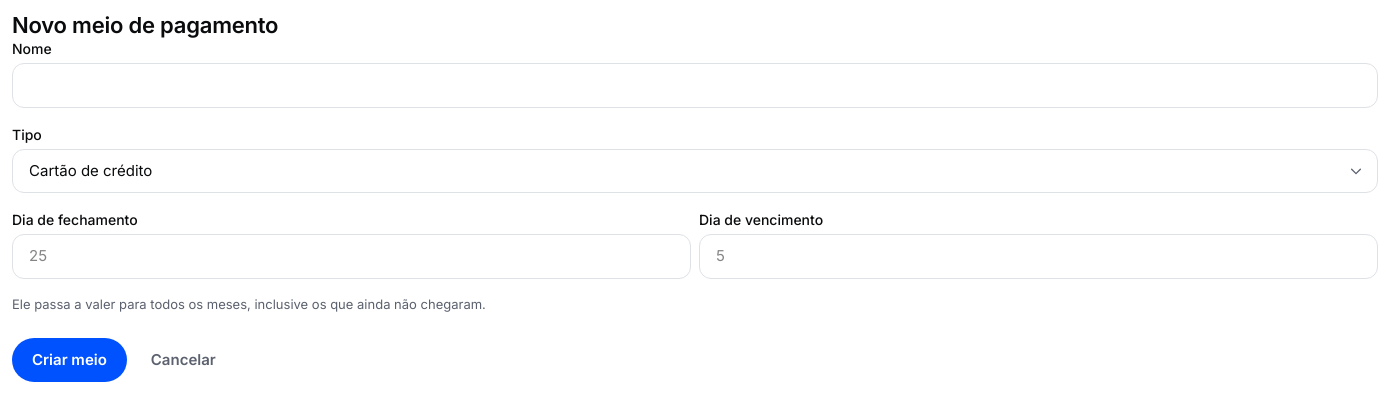
Test: a recusa do servidor (CADCOL-08, AC 5) › o nome de um meio ativo aparece junto do campo, sem abrir nada
The image size is (1390, 399).
Select "Conta corrente" in the dropdown labelled "Tipo": (695, 171) [12,149,1378,193]
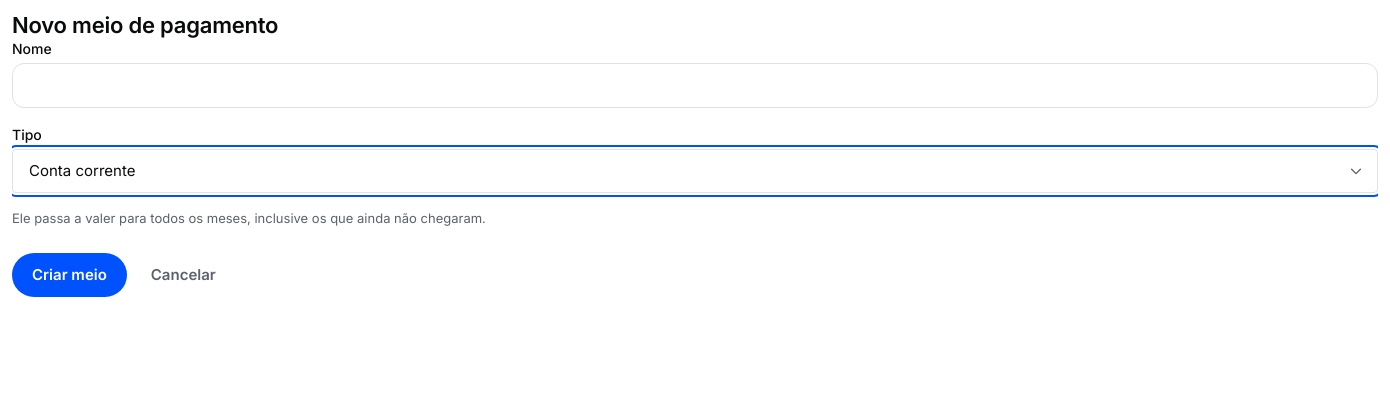
Click the field labelled "Nome": click(695, 86) [12,63,1378,108]
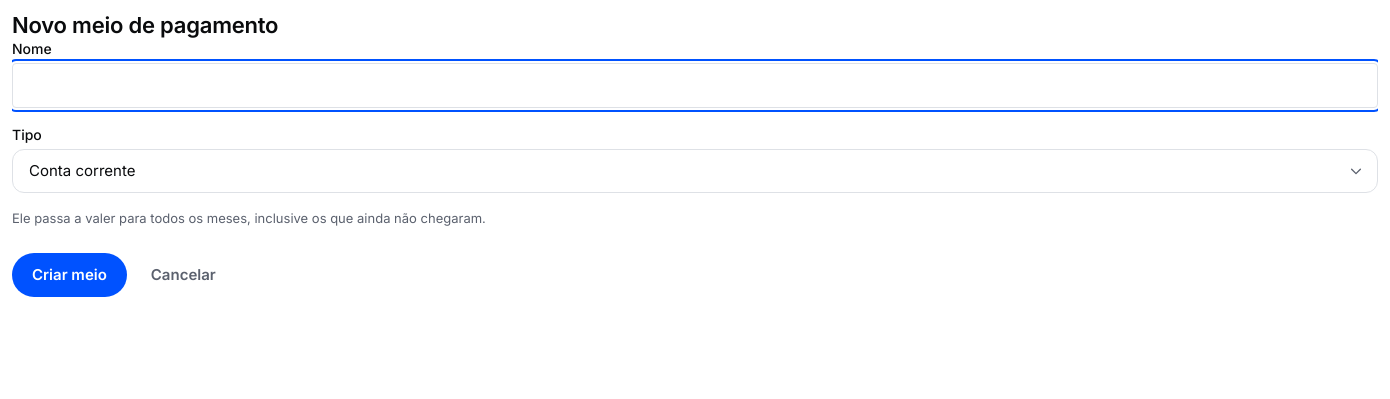
Type keys "conta corrente"
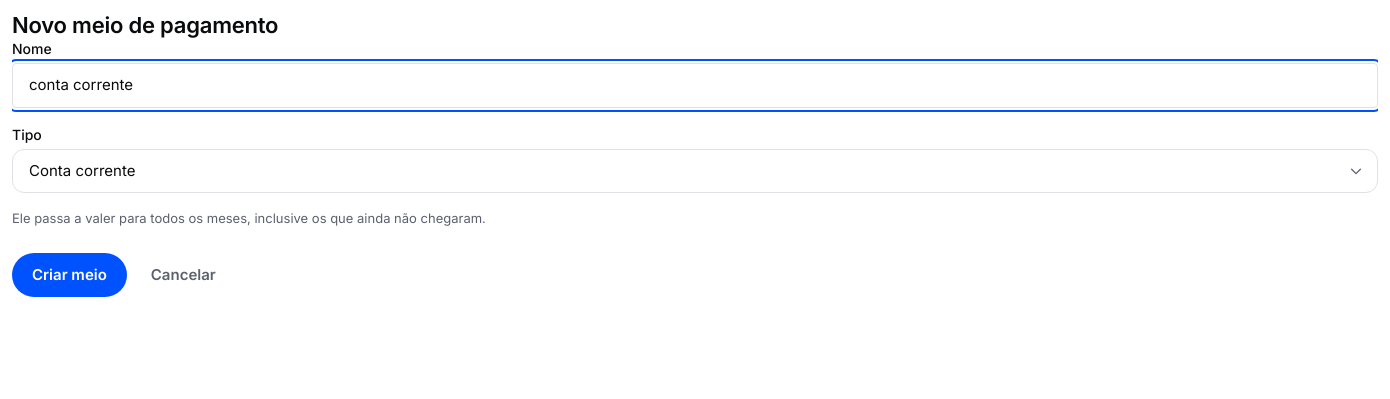
Click the button "Criar meio": click(69, 275) [12,253,127,297]
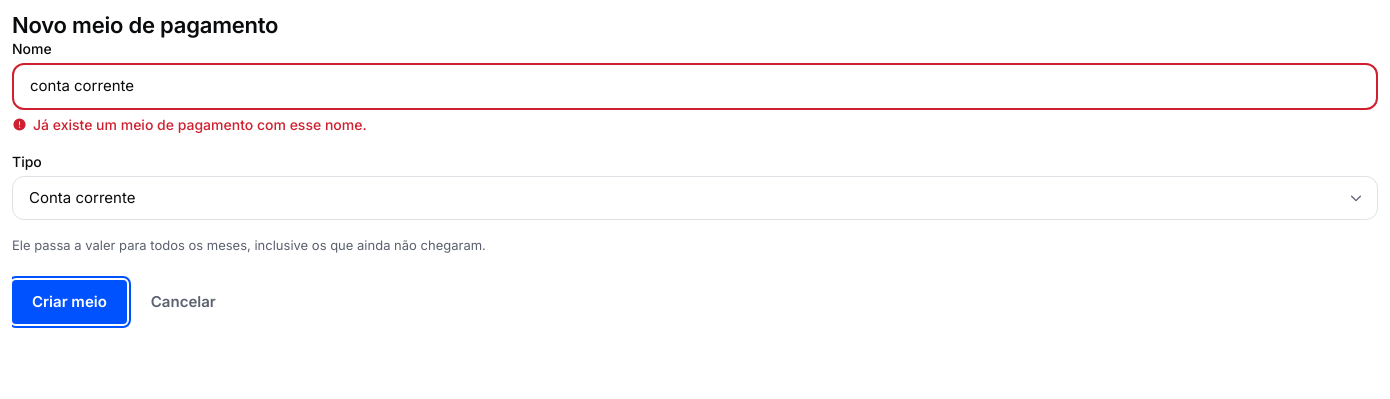
Expected: the message "Já existe um meio de pagamento com esse nome." is shown, [12,116,367,133]
Expected: the message reads "Já existe um meio de pagamento com esse nome.", [33,116,367,133]
